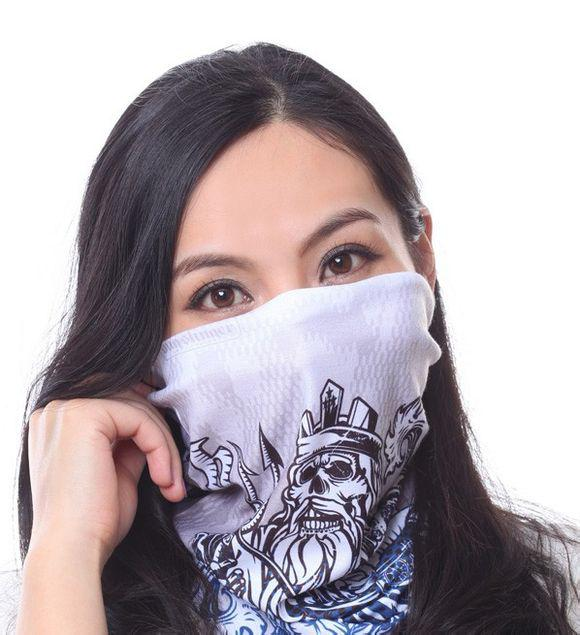OK: (139, 188, 437, 486)
